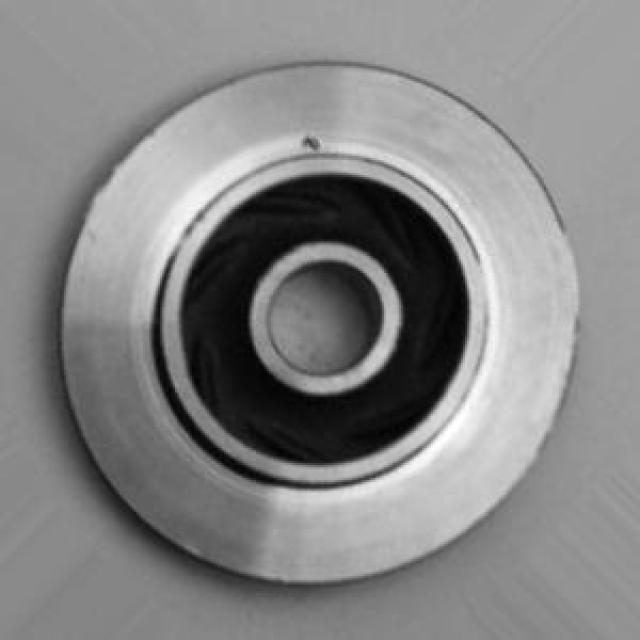Defect: (295, 130, 327, 156)
